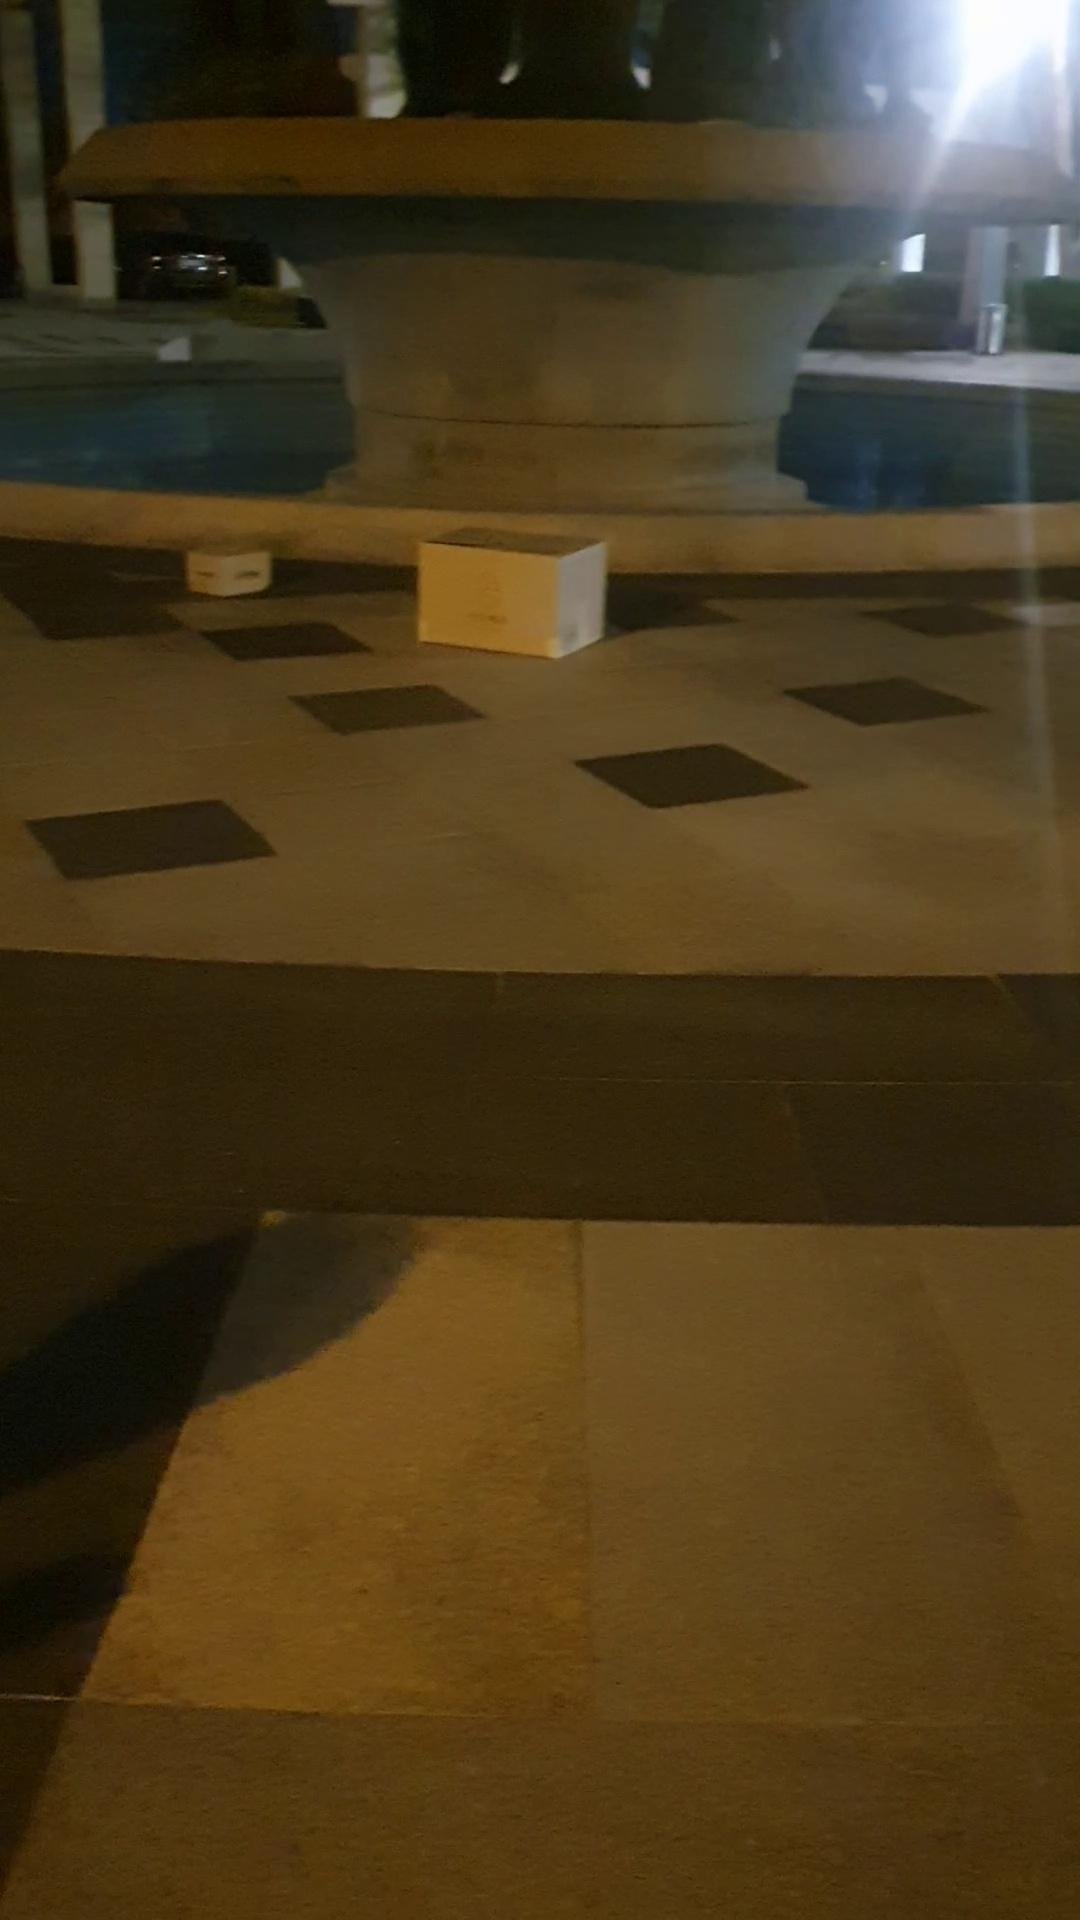Box: (415, 525, 615, 662), (167, 524, 295, 608)
